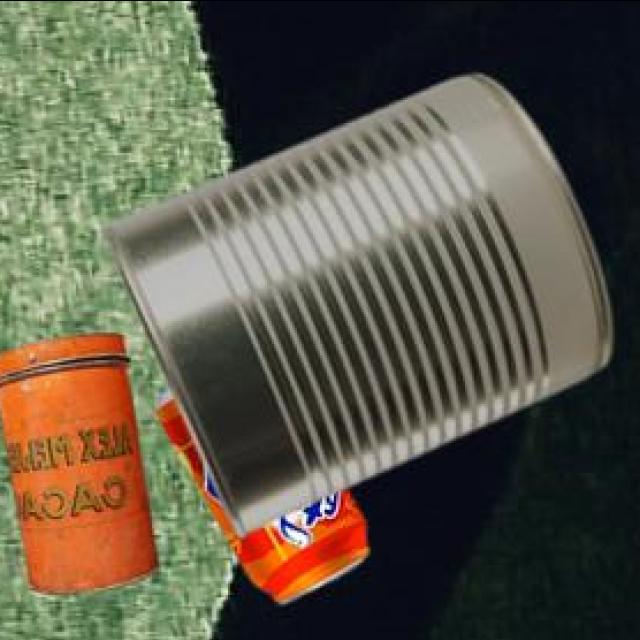logam: (109, 77, 616, 540), (160, 393, 372, 604), (0, 335, 162, 595)
